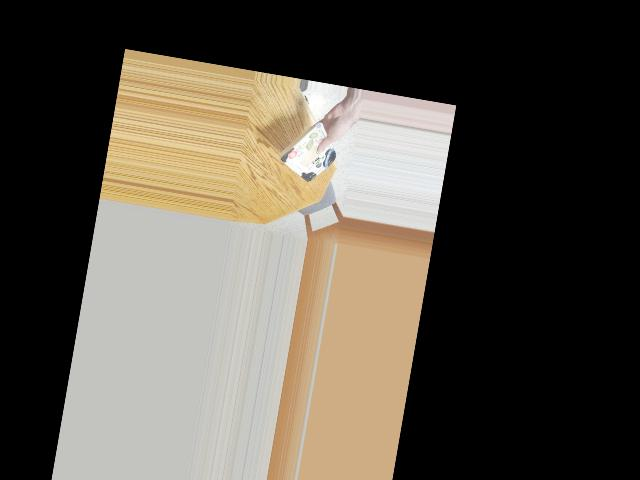cheese: (281, 125, 334, 185)
